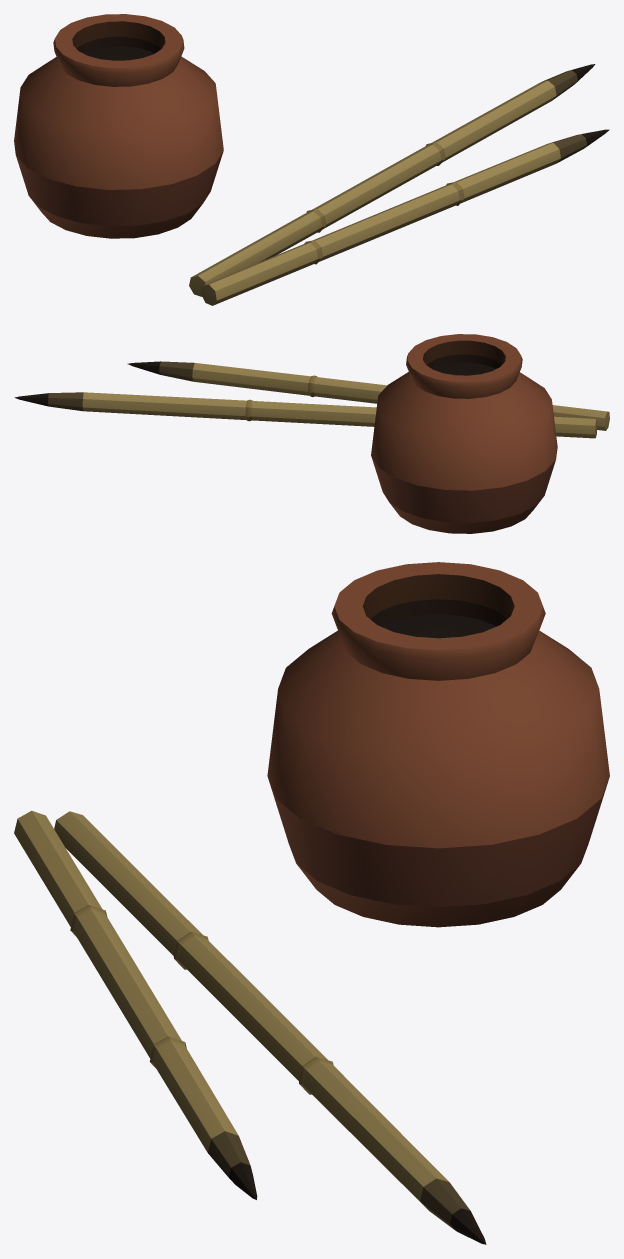
File: reed.glb
The picture shows the model from 3 angles, top to bottom: view 1: azimuth 30°, elevation 25°; view 2: azimuth 150°, elevation 25°; view 3: azimuth 270°, elevation 25°; orthographic projection. The views are drawn at different scales.
Visible parts, largest first — view 1: base; view 2: base; view 3: base.
Part boxes in pixels (box(x1,y1,x2,y2)): base: box(14, 14, 609, 305); base: box(14, 334, 609, 533); base: box(14, 562, 609, 1244).
Size of the model in its own units: 0.2041 by 0.055 by 0.1113.
